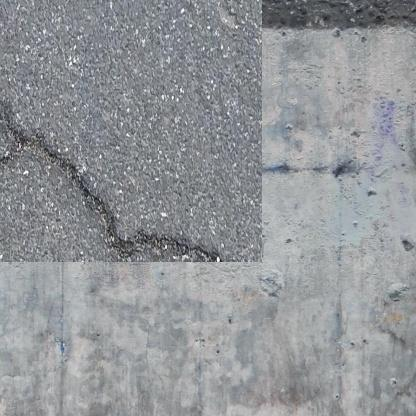Cracks: (0, 113, 207, 242)
